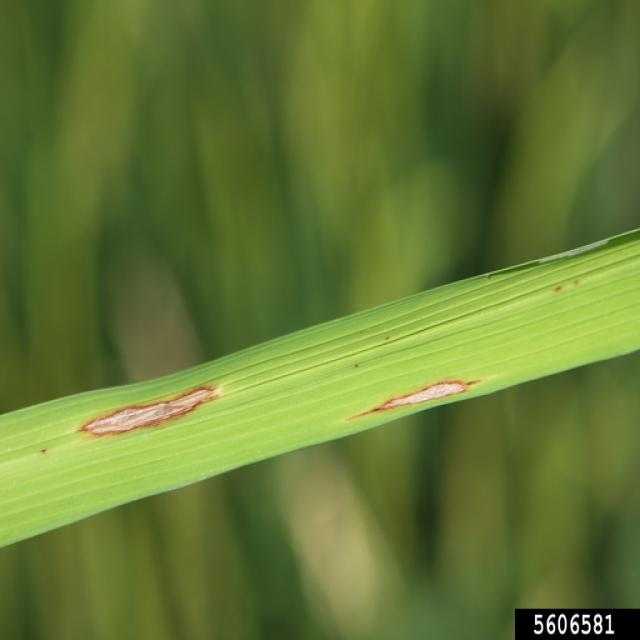Brown spot: (342, 359, 526, 437), (70, 384, 244, 444), (569, 267, 586, 297), (550, 274, 568, 302), (350, 357, 370, 375), (36, 441, 52, 463), (380, 329, 400, 346)
